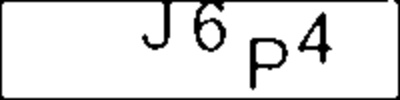4: (297, 9, 333, 64)
6: (192, 1, 228, 55)
J: (140, 1, 176, 53)
P: (248, 35, 290, 91)
